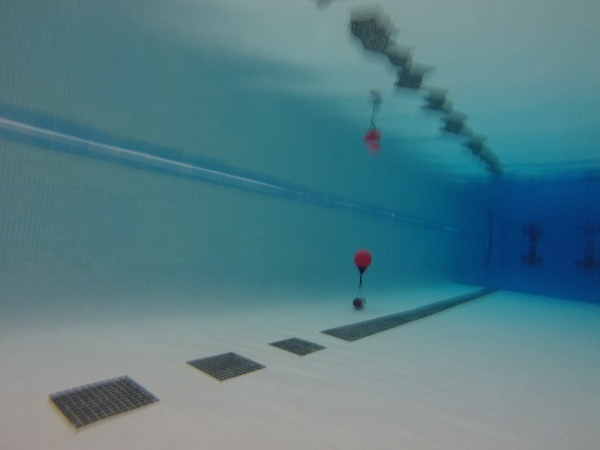buoy_red: (353, 247, 373, 276)
